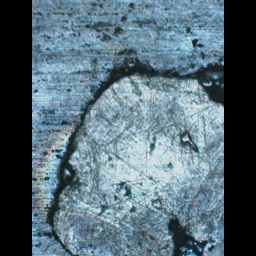d: (45, 51, 223, 255)
